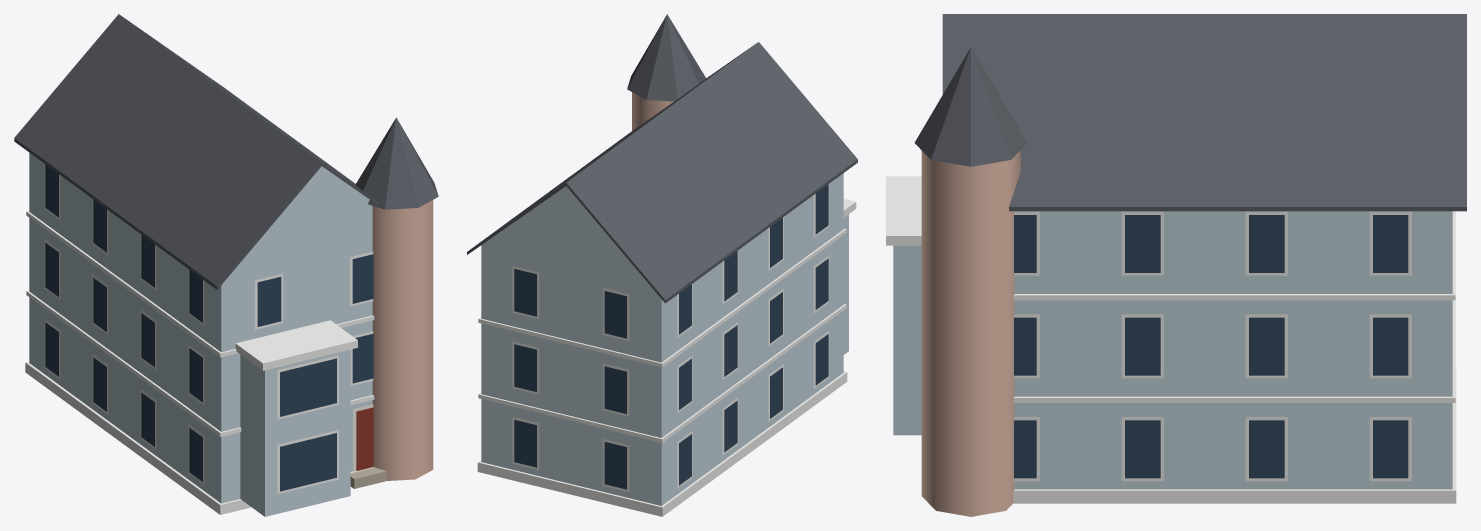
Rendered from victorienne.glb.
3 views of the same model, side by side, from view 1: azimuth 30°, elevation 25°; view 2: azimuth 150°, elevation 25°; view 3: azimuth 270°, elevation 25° (orthographic). The views are drawn at different scales.
Parts seen in each view (by area): view 1: victorienne; view 2: victorienne; view 3: victorienne.
Part boxes in pixels (x1=…): victorienne: x1=14, y1=14, x2=438, y2=516; victorienne: x1=467, y1=14, x2=857, y2=516; victorienne: x1=886, y1=14, x2=1466, y2=516.
Bounding box in the file's own units: 9.6 × 14 × 16.4.
1 material, 1 textured.
